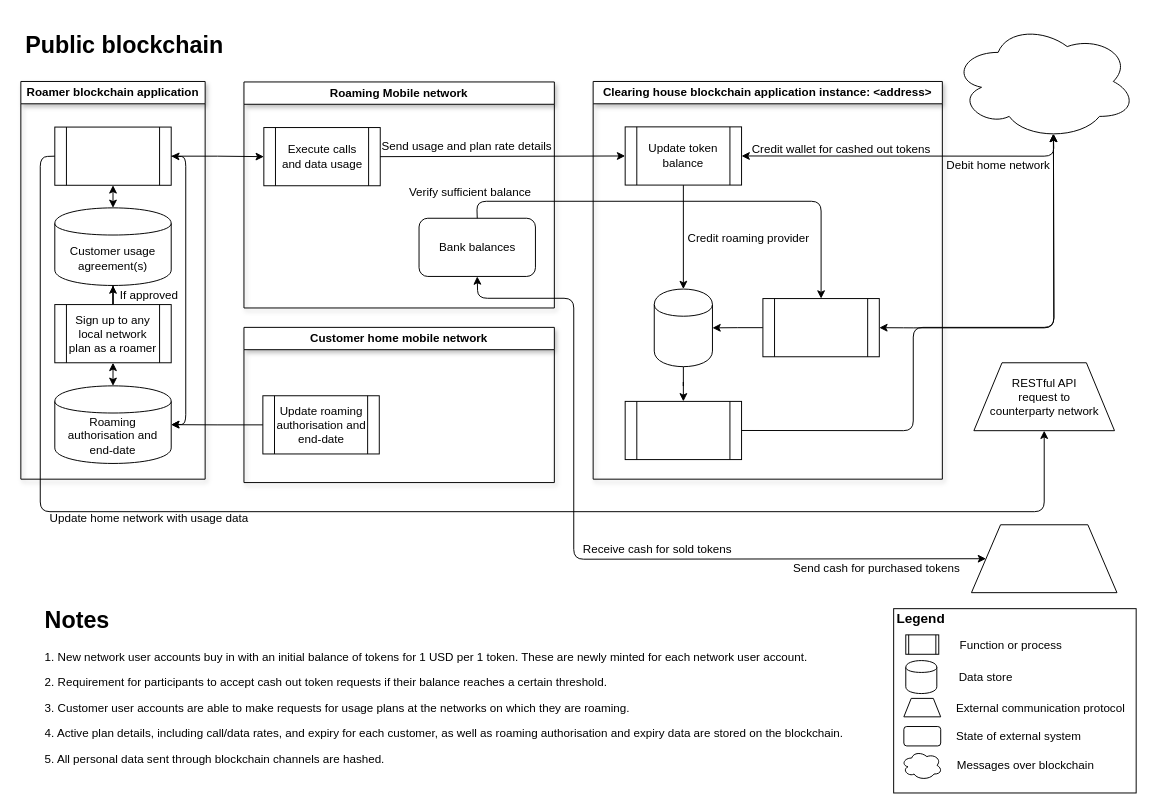
Some shapes in this 1153 by 810 pixel diagram are drawn without their labels. Here are the shapes that lost their labels. From the top down, the centre of each, then its label:
point (1043, 81): Blockchain
point (112, 155): Use call, data, or mobile service
point (682, 327): Wallet: Tokens
point (820, 327): Purchase tokens
point (683, 430): Cash-out tokens
point (1043, 558): International money transfer to counterparty
